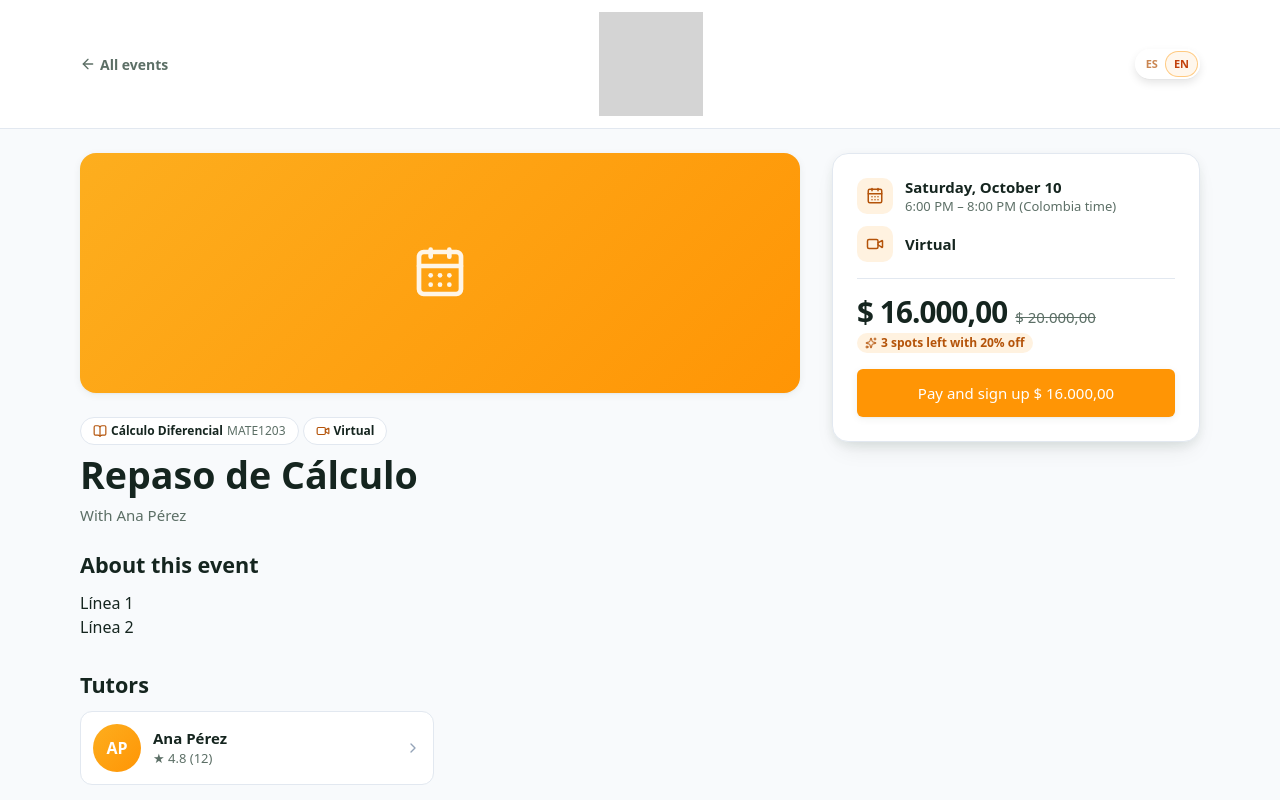
Test: EventDetailView › paid registration › widget closed without a result → paymentClosed
Step 1. Click the button "Pay and sign up $ 16.000,00" → (1016, 393), box [857, 369, 1175, 417]
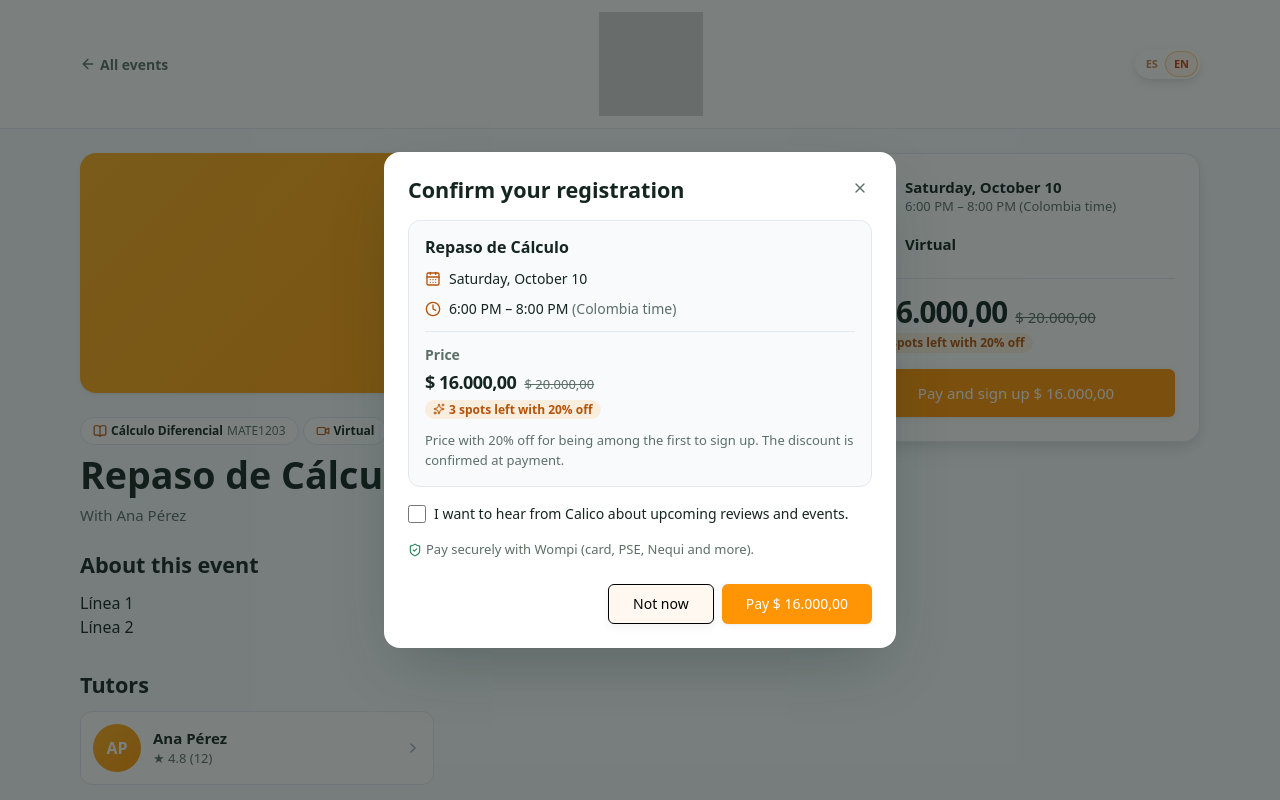
Step 2. Click the button "Pay $ 16.000,00" → (797, 604), box [722, 584, 872, 624]
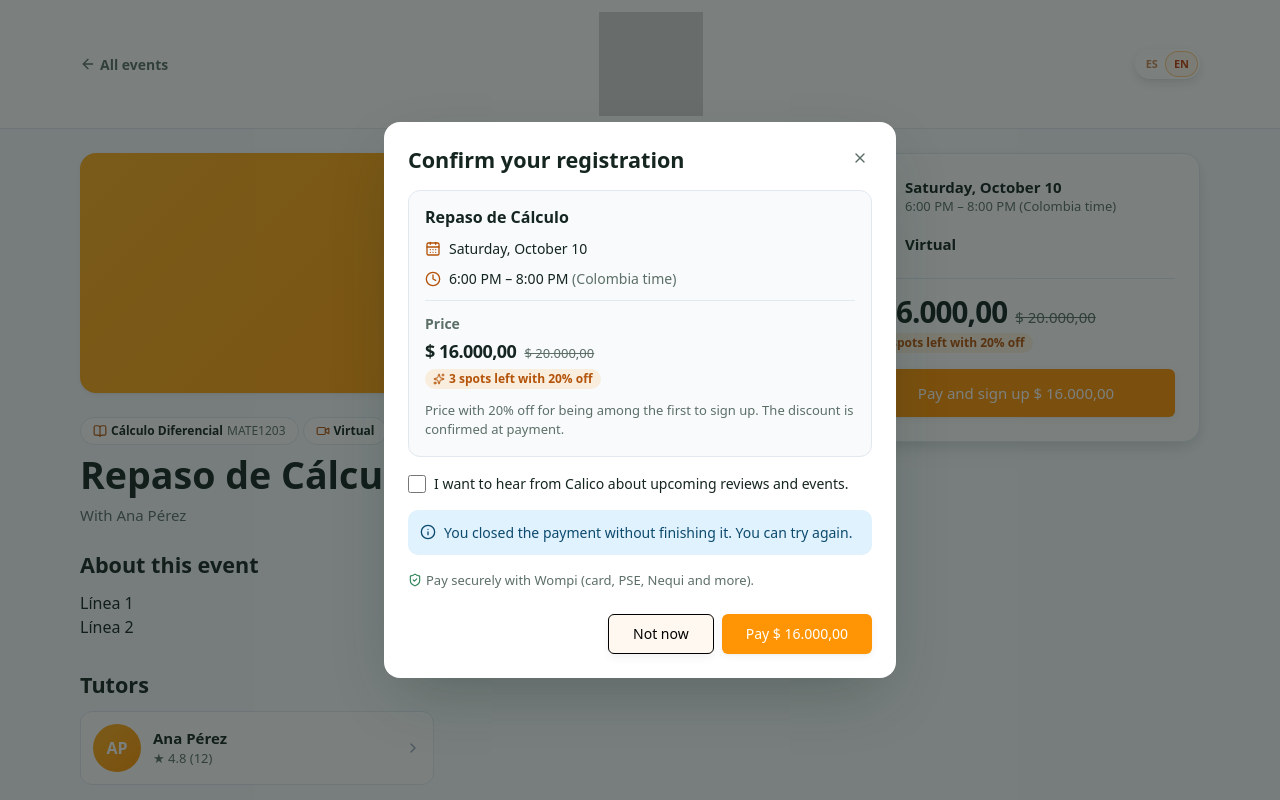
expect the text "You closed the payment without finishing it. You can try again." is shown: met, box [408, 510, 872, 555]
